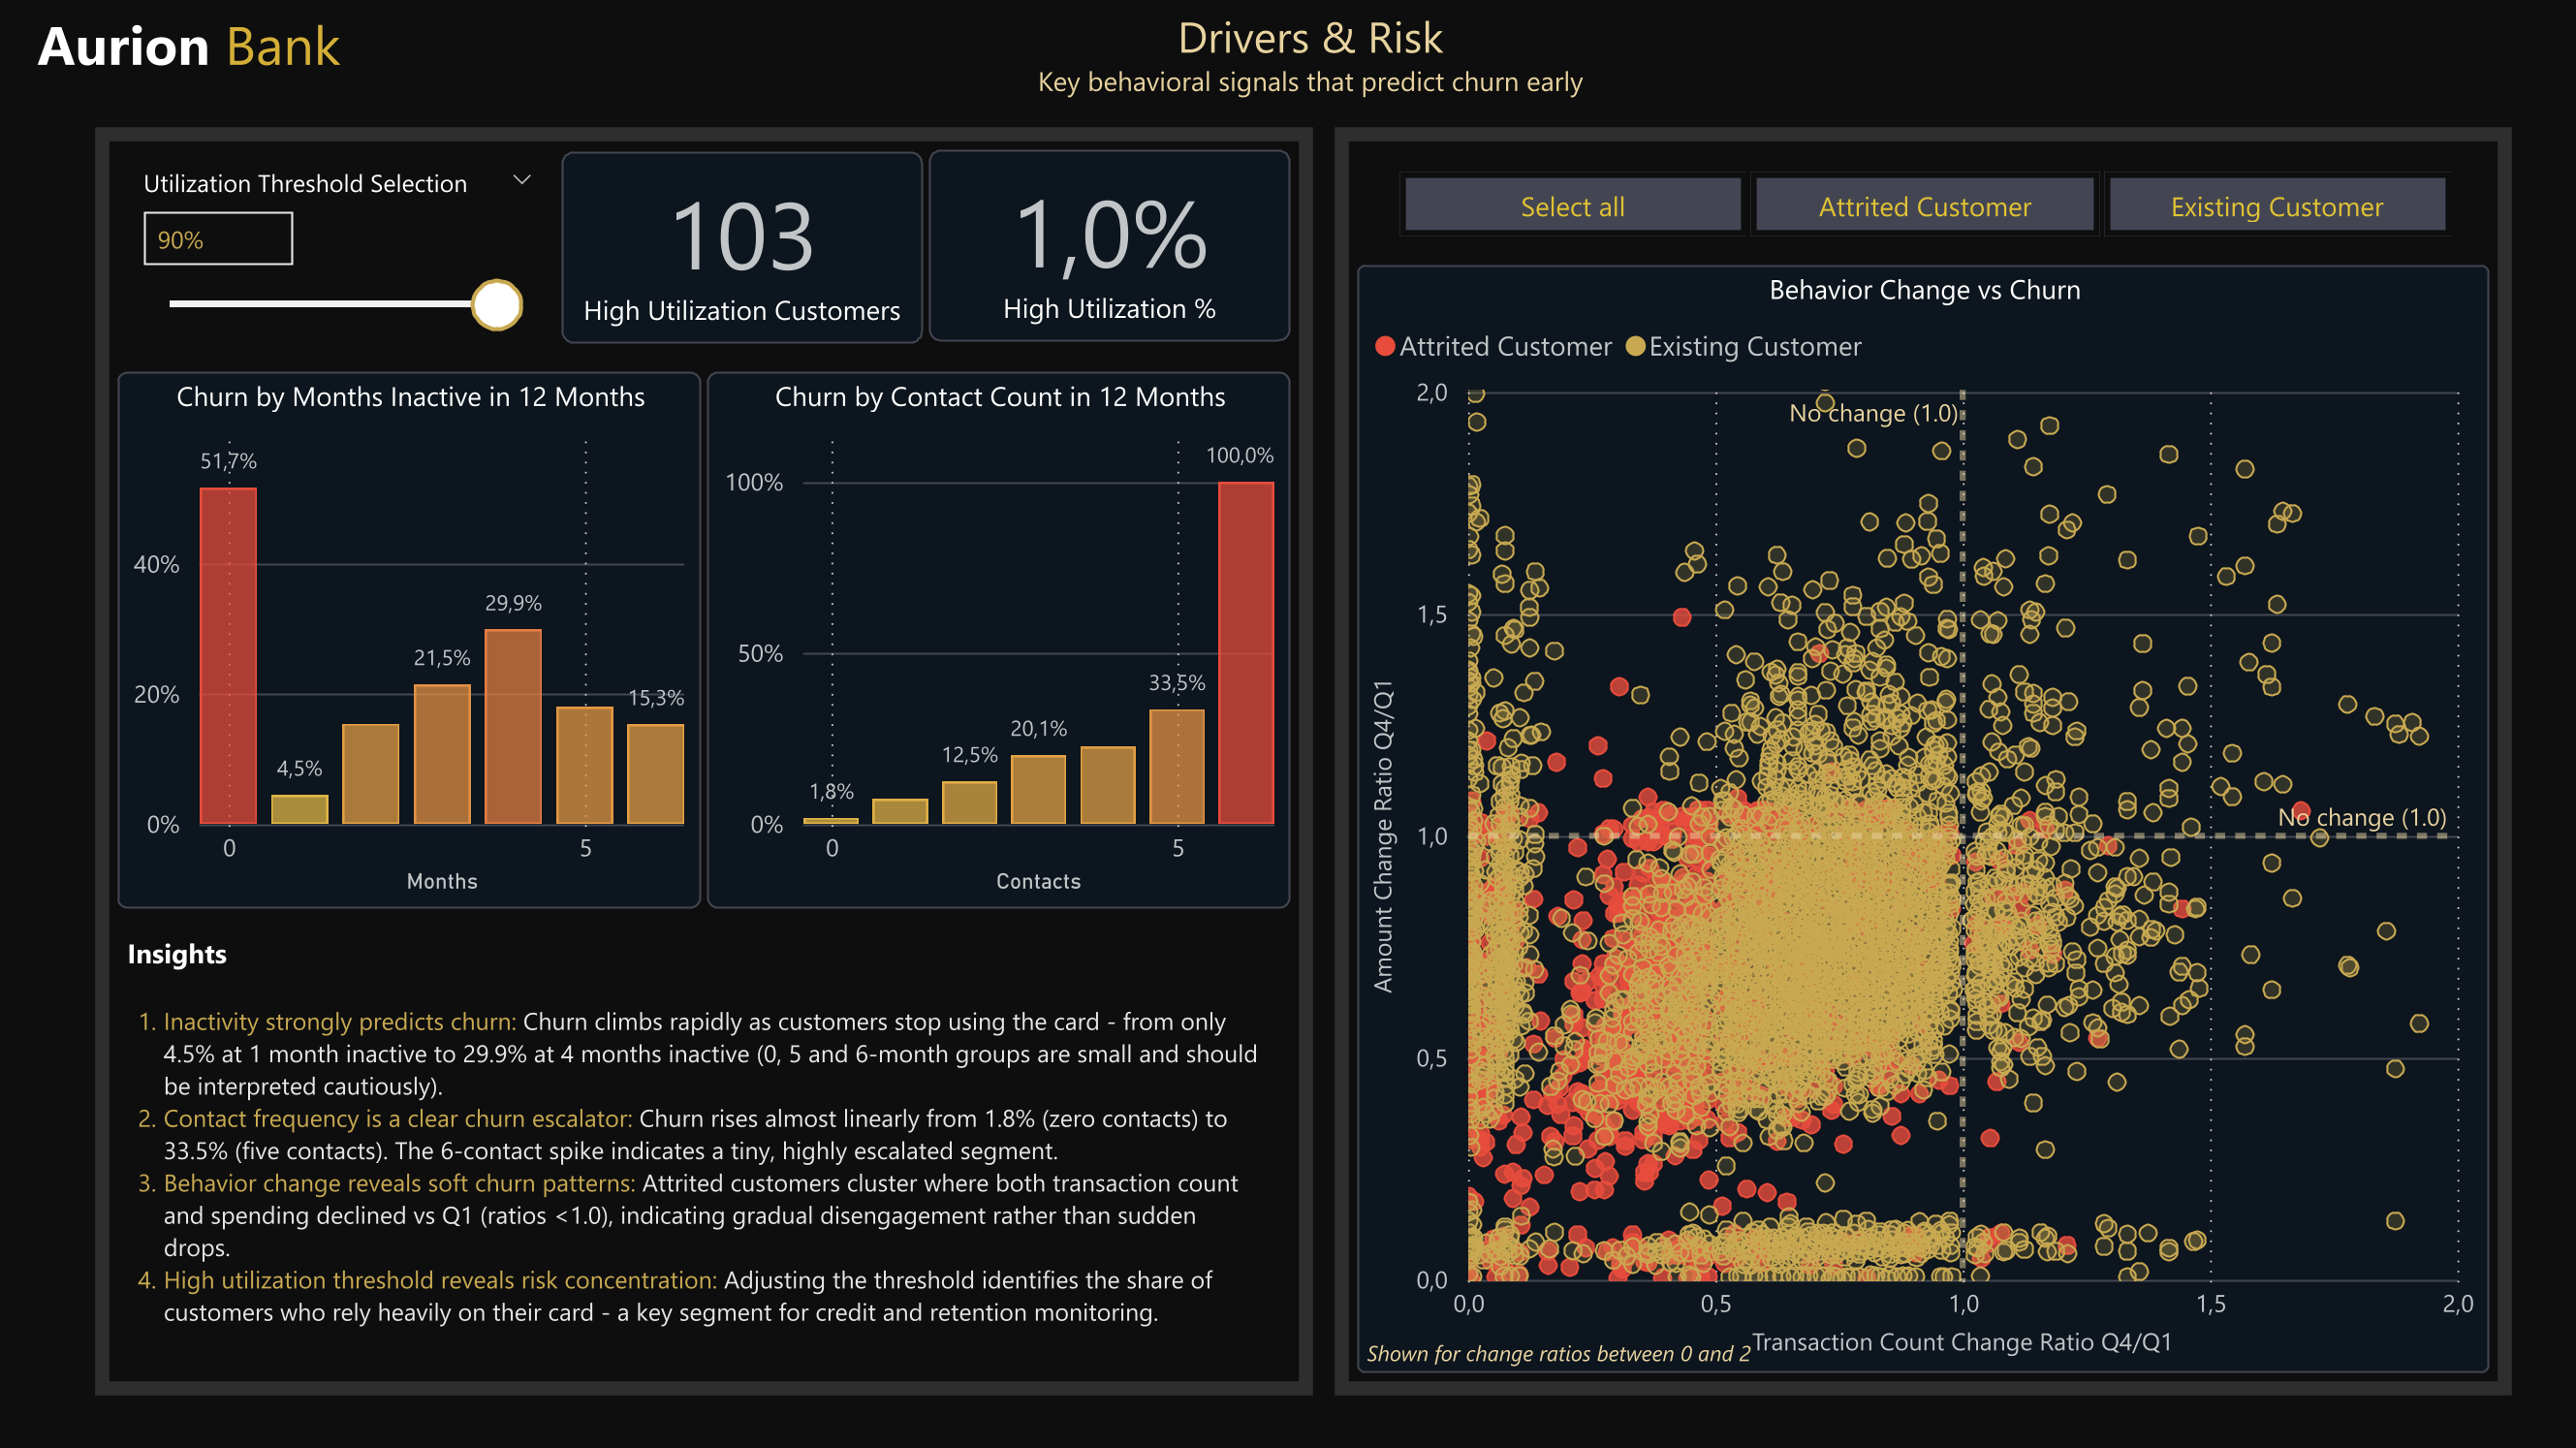

The page's visual inventory and layout, read from the dashboard file:
{"tool":"powerbi","page":{"name":"Drivers & Risk","canvas":[1280,720],"ordinal":5},"visuals":[{"type":"textbox","box":[663,65,583,628],"z":0},{"type":"textbox","box":[49,65,603,628],"z":1000},{"type":"textbox","title":"KZ Logo","box":[0,0,191,52],"z":2000},{"type":"textbox","box":[60.1,460,571,222],"z":3000},{"type":"clusteredColumnChart","title":"Churn by Months Inactive in 12 Months","fields":{"Y":["MeasuresTable.Churn %"],"Category":["FactCustomerStatus.Months_Inactive_12_mon"]},"box":[60,186,289,266],"z":5000},{"type":"clusteredColumnChart","title":"Churn by Contact Count in 12 Months","fields":{"Y":["MeasuresTable.Churn %"],"Category":["FactCustomerStatus.Contacts_Count_12_mon"]},"box":[352,186,289,266],"z":6000},{"type":"card","fields":{"Values":["MeasuresTable.High Utilization %"]},"box":[462,76,179,95],"z":7000},{"type":"scatterChart","title":"Behavior Change vs Churn","fields":{"Series":["FactCustomerStatus.Attrition_Flag"],"Category":["DimCustomer.ClientNum"],"X":["MeasuresTable.Ct_Change_Q4_Q1"],"Y":["MeasuresTable.Amount_Change_Q4_Q1"]},"box":[674,133,561,549],"z":8000},{"type":"card","fields":{"Values":["MeasuresTable.High Utilization Customers"]},"box":[280,77,179,95],"z":9000},{"type":"slicer","fields":{"Values":["UtilizationThreshold.UtilizationThreshold"]},"box":[60,79,218,93],"z":10000},{"type":"slicer","fields":{"Values":["FactCustomerStatus.Attrition_Flag"]},"box":[674,80,561,46],"z":11000},{"type":"textbox","box":[674,657,228,37],"z":12000},{"type":"textbox","box":[408.2,0,485.8,64.5],"z":13000}]}

Visuals, with their boxes in screenshot pixels (x1, y1, x2, y2), scaled from the page's 1280x720 canvas onto the 2576x1448 screenshot:
textbox: box=[1335, 131, 2507, 1394]
textbox: box=[99, 131, 1312, 1394]
"KZ Logo" textbox: box=[0, 0, 385, 105]
textbox: box=[121, 926, 1271, 1371]
"Churn by Months Inactive in 12 Months" clusteredColumnChart: box=[121, 374, 703, 909]
"Churn by Contact Count in 12 Months" clusteredColumnChart: box=[708, 374, 1290, 909]
card - MeasuresTable.High Utilization %: box=[929, 153, 1290, 344]
"Behavior Change vs Churn" scatterChart: box=[1357, 268, 2486, 1371]
card - MeasuresTable.High Utilization Customers: box=[563, 155, 924, 346]
slicer - UtilizationThreshold.UtilizationThreshold: box=[121, 159, 559, 346]
slicer - FactCustomerStatus.Attrition_Flag: box=[1357, 161, 2486, 253]
textbox: box=[1357, 1321, 1815, 1396]
textbox: box=[822, 0, 1799, 130]
